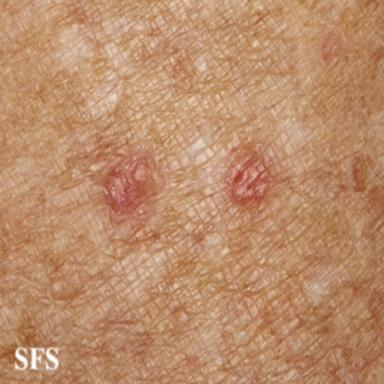Porokeratosis: (103, 152, 159, 219), (225, 145, 274, 205), (321, 32, 341, 60)
